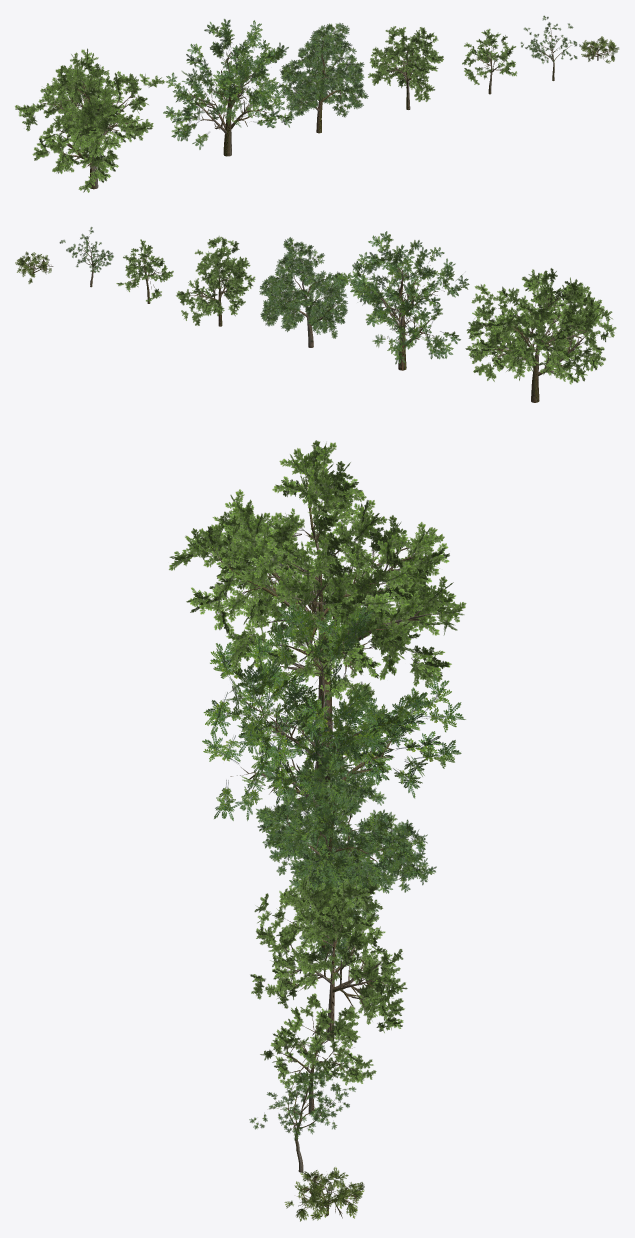
File: trees_collection.glb
3 views of the same model, one above another, from view 1: azimuth 30°, elevation 25°; view 2: azimuth 150°, elevation 25°; view 3: azimuth 270°, elevation 25° (orthographic). The views are drawn at different scales.
Visible parts, largest first — view 1: Tree EZTree1.Large009, Tree EZTree0.Large, Tree EZTree1.Large001, Tree EZTree0.Medium010, Tree EZTree0.Medium011, Tree EZTree1.Medium002, Tree EZTree1.Bush006; view 2: Tree EZTree1.Large009, Tree EZTree0.Large, Tree EZTree1.Large001, Tree EZTree0.Medium010, Tree EZTree0.Medium011, Tree EZTree1.Medium002, Tree EZTree1.Bush006; view 3: Tree EZTree1.Large009, Tree EZTree0.Large, Tree EZTree1.Large001, Tree EZTree0.Medium010, Tree EZTree0.Medium011, Tree EZTree1.Medium002, Tree EZTree1.Bush006.
Boxes of the visible parts, left/top/right/bottom form: Tree EZTree1.Large009: left=15, top=48, right=164, bottom=192; Tree EZTree0.Large: left=163, top=19, right=295, bottom=156; Tree EZTree1.Large001: left=279, top=23, right=368, bottom=133; Tree EZTree0.Medium010: left=368, top=26, right=443, bottom=109; Tree EZTree0.Medium011: left=462, top=28, right=516, bottom=94; Tree EZTree1.Medium002: left=521, top=15, right=580, bottom=80; Tree EZTree1.Bush006: left=580, top=36, right=618, bottom=63; Tree EZTree1.Large009: left=465, top=268, right=616, bottom=402; Tree EZTree0.Large: left=331, top=231, right=469, bottom=370; Tree EZTree1.Large001: left=259, top=237, right=347, bottom=347; Tree EZTree0.Medium010: left=176, top=236, right=255, bottom=326; Tree EZTree0.Medium011: left=116, top=239, right=173, bottom=303; Tree EZTree1.Medium002: left=59, top=227, right=113, bottom=287; Tree EZTree1.Bush006: left=15, top=251, right=53, bottom=283; Tree EZTree1.Large009: left=169, top=440, right=466, bottom=735; Tree EZTree0.Large: left=202, top=602, right=465, bottom=865; Tree EZTree1.Large001: left=256, top=748, right=436, bottom=968; Tree EZTree0.Medium010: left=250, top=877, right=407, bottom=1040; Tree EZTree0.Medium011: left=260, top=993, right=376, bottom=1112; Tree EZTree1.Medium002: left=249, top=1044, right=356, bottom=1172; Tree EZTree1.Bush006: left=284, top=1167, right=364, bottom=1221.
Bounding box in the file's own units: 473 × 107 × 109.
Materials: 5 (5 with a texture image).
